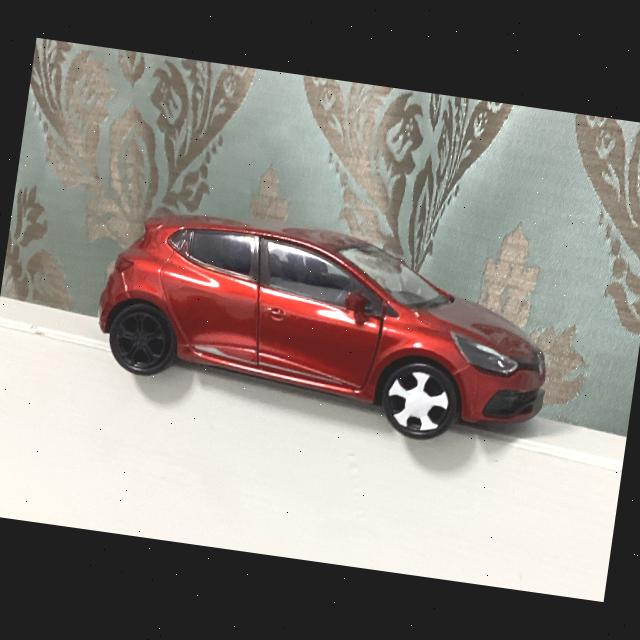Dogru_Jant: (114, 310, 170, 368)
Yanlis_Jant: (385, 370, 452, 435)
